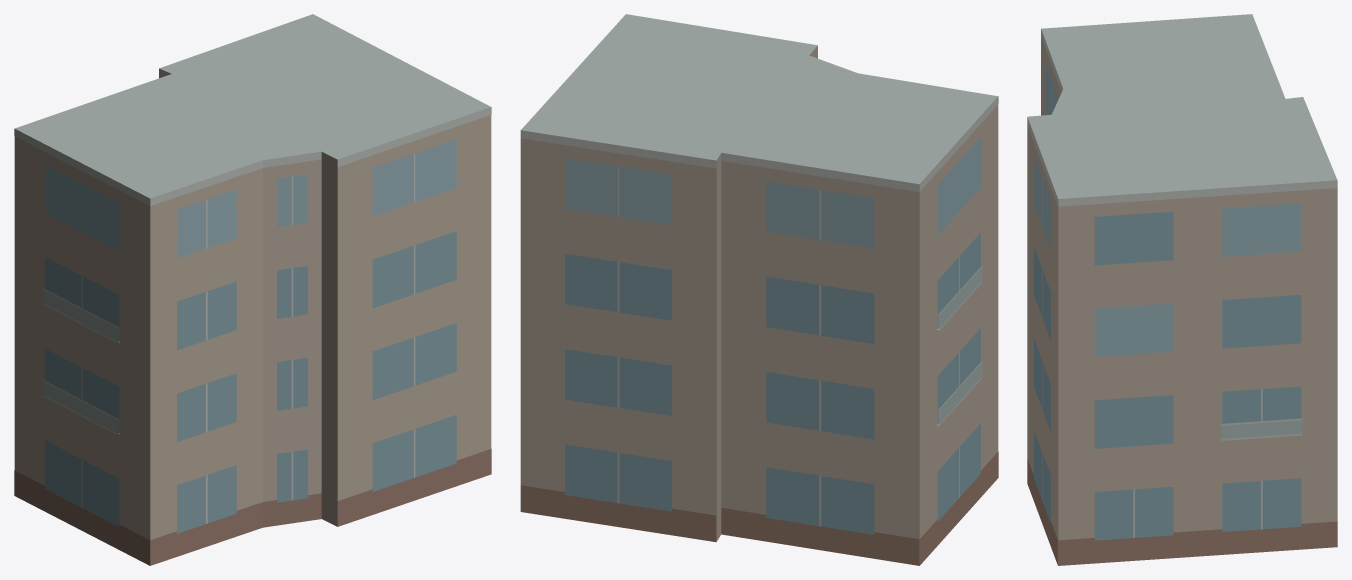
File: survey-upis-32706424.glb
3 views of the same model, side by side, from view 1: azimuth 30°, elevation 25°; view 2: azimuth 150°, elevation 25°; view 3: azimuth 270°, elevation 25° (orthographic). The views are drawn at different scales.
Parts seen in each view (by area): view 1: survey-upis-32706424.tmp; view 2: survey-upis-32706424.tmp; view 3: survey-upis-32706424.tmp.
Part boxes in pixels (<box>): survey-upis-32706424.tmp: <box>14,14,491,565</box>; survey-upis-32706424.tmp: <box>520,14,998,565</box>; survey-upis-32706424.tmp: <box>1027,14,1337,565</box>.
Size of the model in its own units: 12.63 by 11.66 by 8.95.
